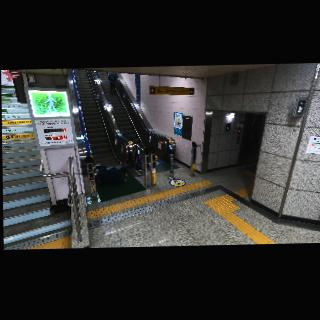anomaly: (91, 163, 130, 186)
normal: (106, 71, 119, 94)
